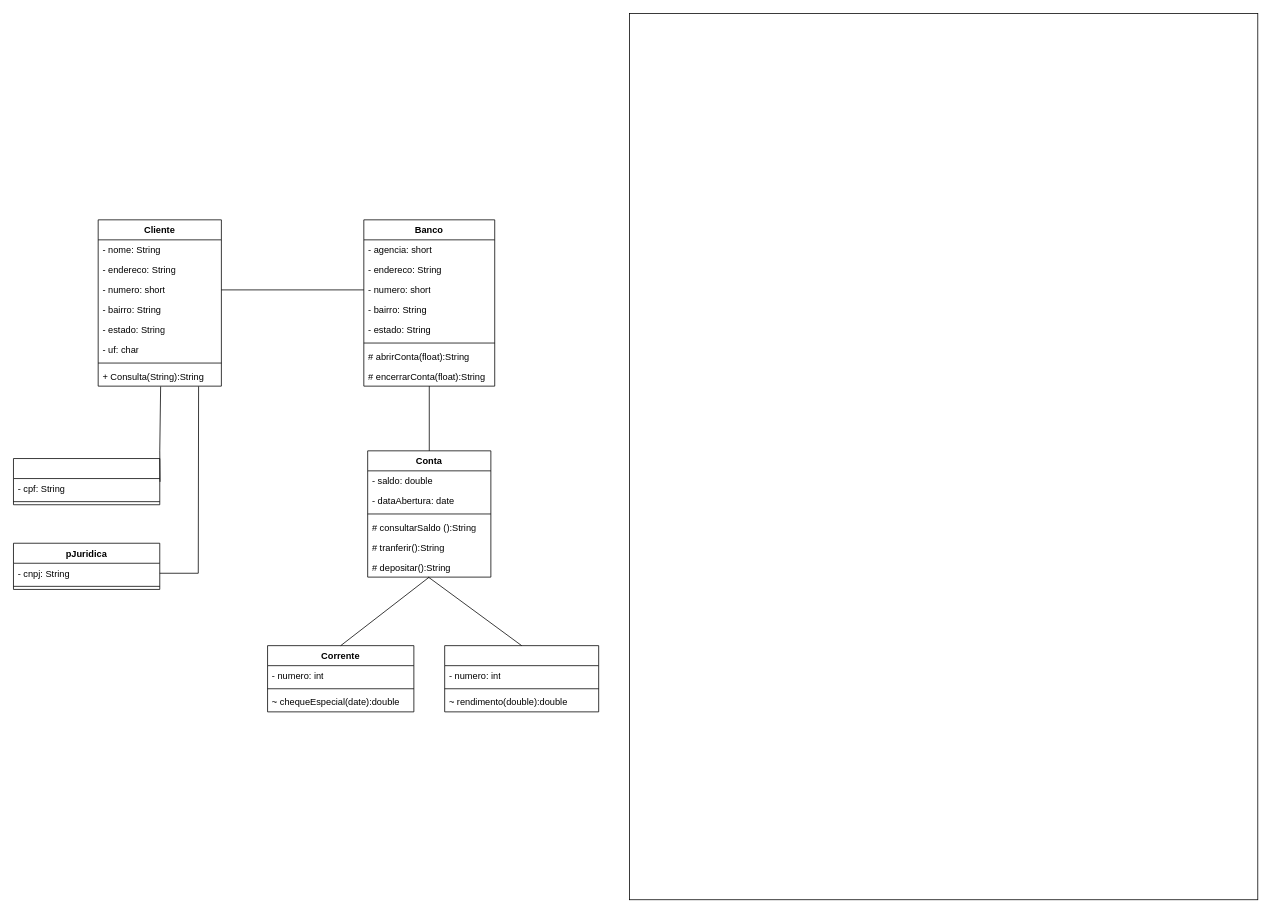
Some shapes in this 1271 by 913 pixel diagram are drawn without their labels. Each missing label, with the box of its shape:
pFisica: (13, 458, 160, 505)
Poupanca: (444, 645, 599, 712)
